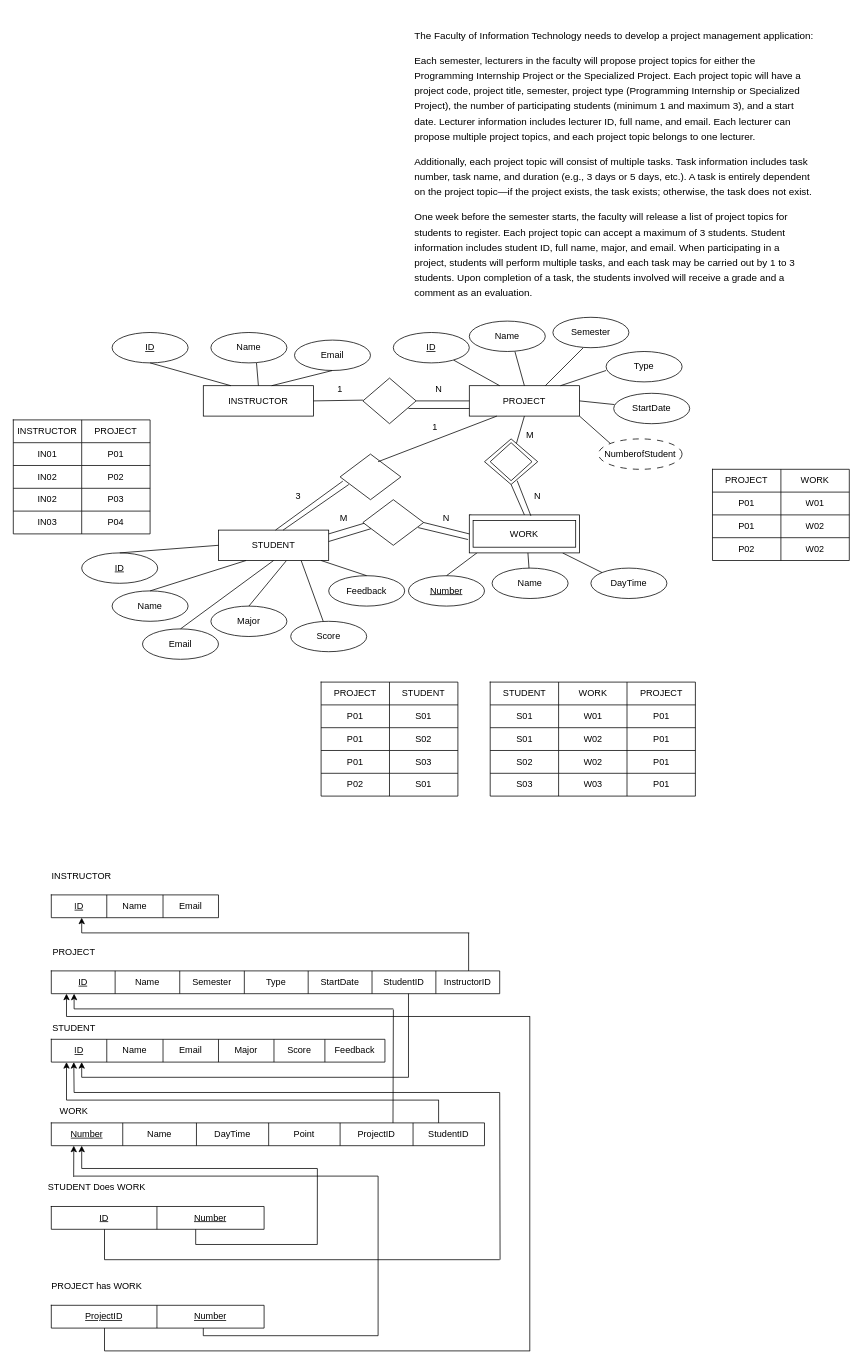
This 863x1365 diagram has some shape labels left out. The shapes that lost their labels are listed below. From the top down, each one's centre as x and y in pixels, then its label:
the point at 389,400: GIVES
the point at 370,476: ACCEPTS
the point at 510,461: HAS
the point at 393,522: DOES
